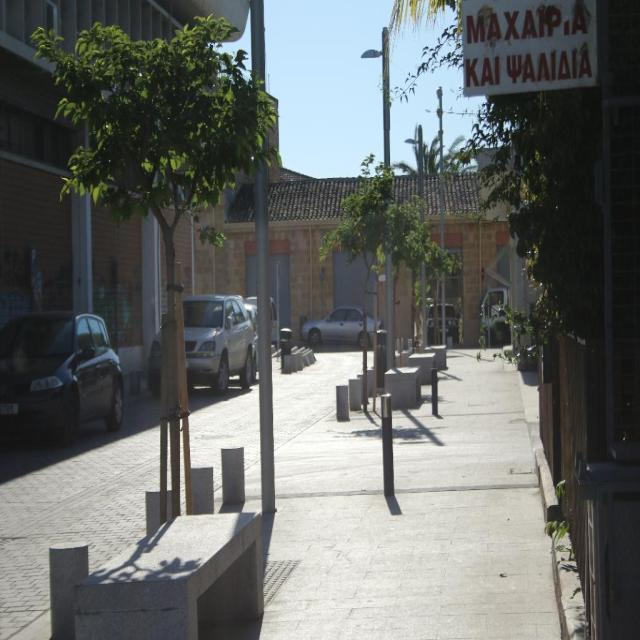car: (0, 303, 124, 445), (296, 300, 383, 348)
